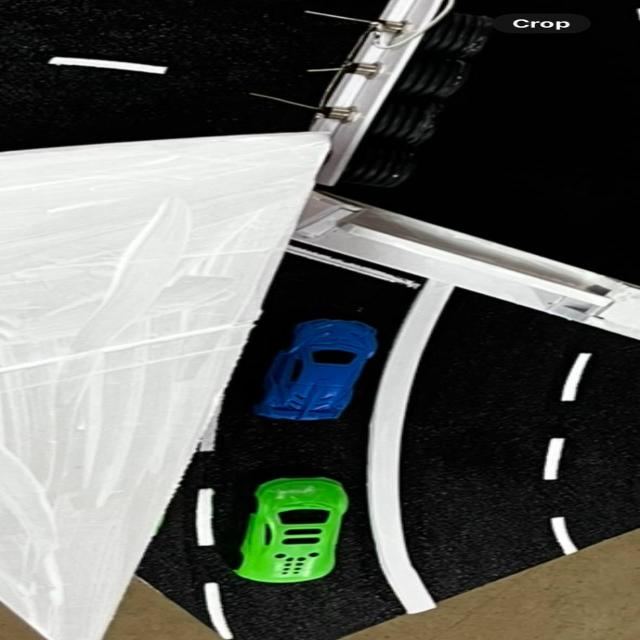car: (213, 463, 362, 601), (248, 312, 380, 446)
